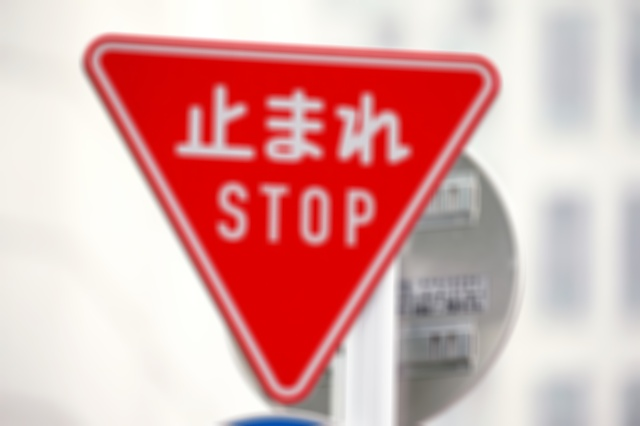Regulatory_sign_triangle: (62, 27, 509, 405)
